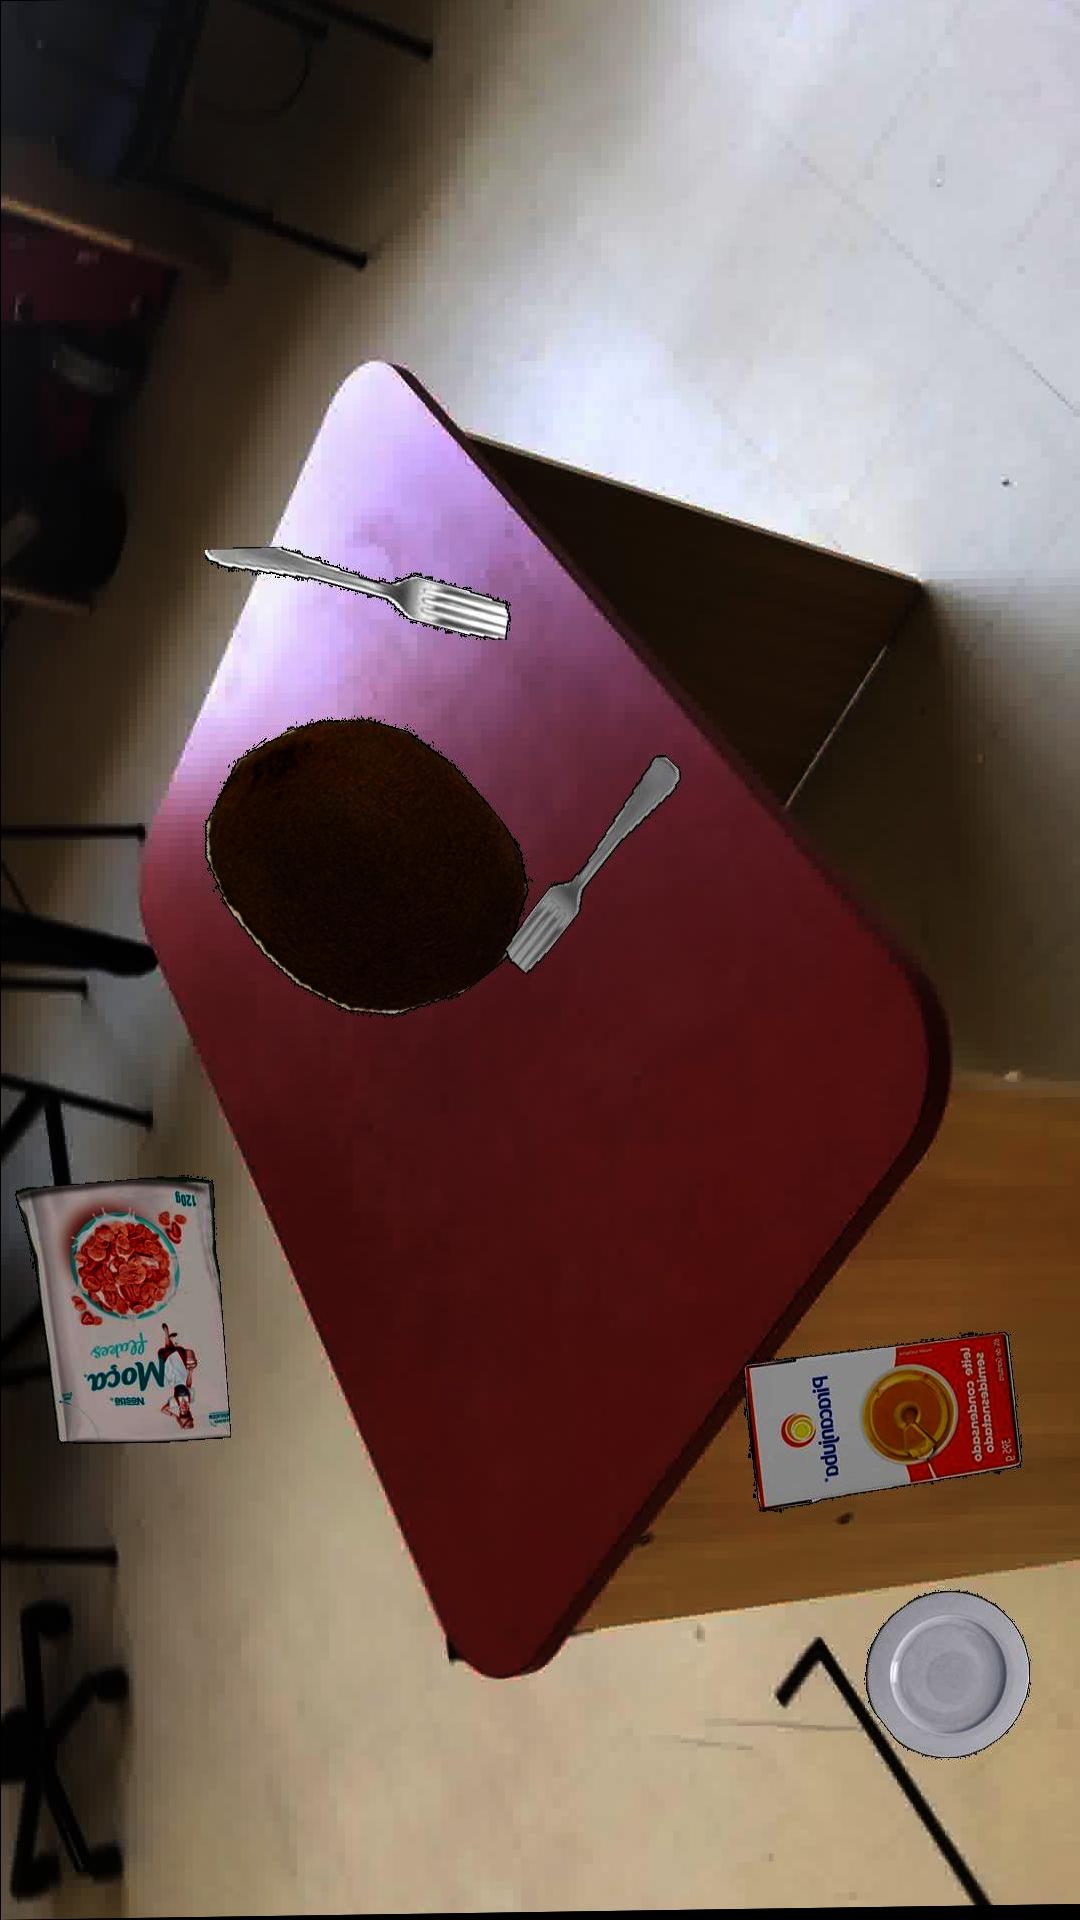corn flakes: (16, 1178, 232, 1444)
fork: (505, 758, 682, 976), (206, 549, 512, 642)
kiwi: (206, 719, 530, 1018)
plate: (865, 1593, 1031, 1762)
